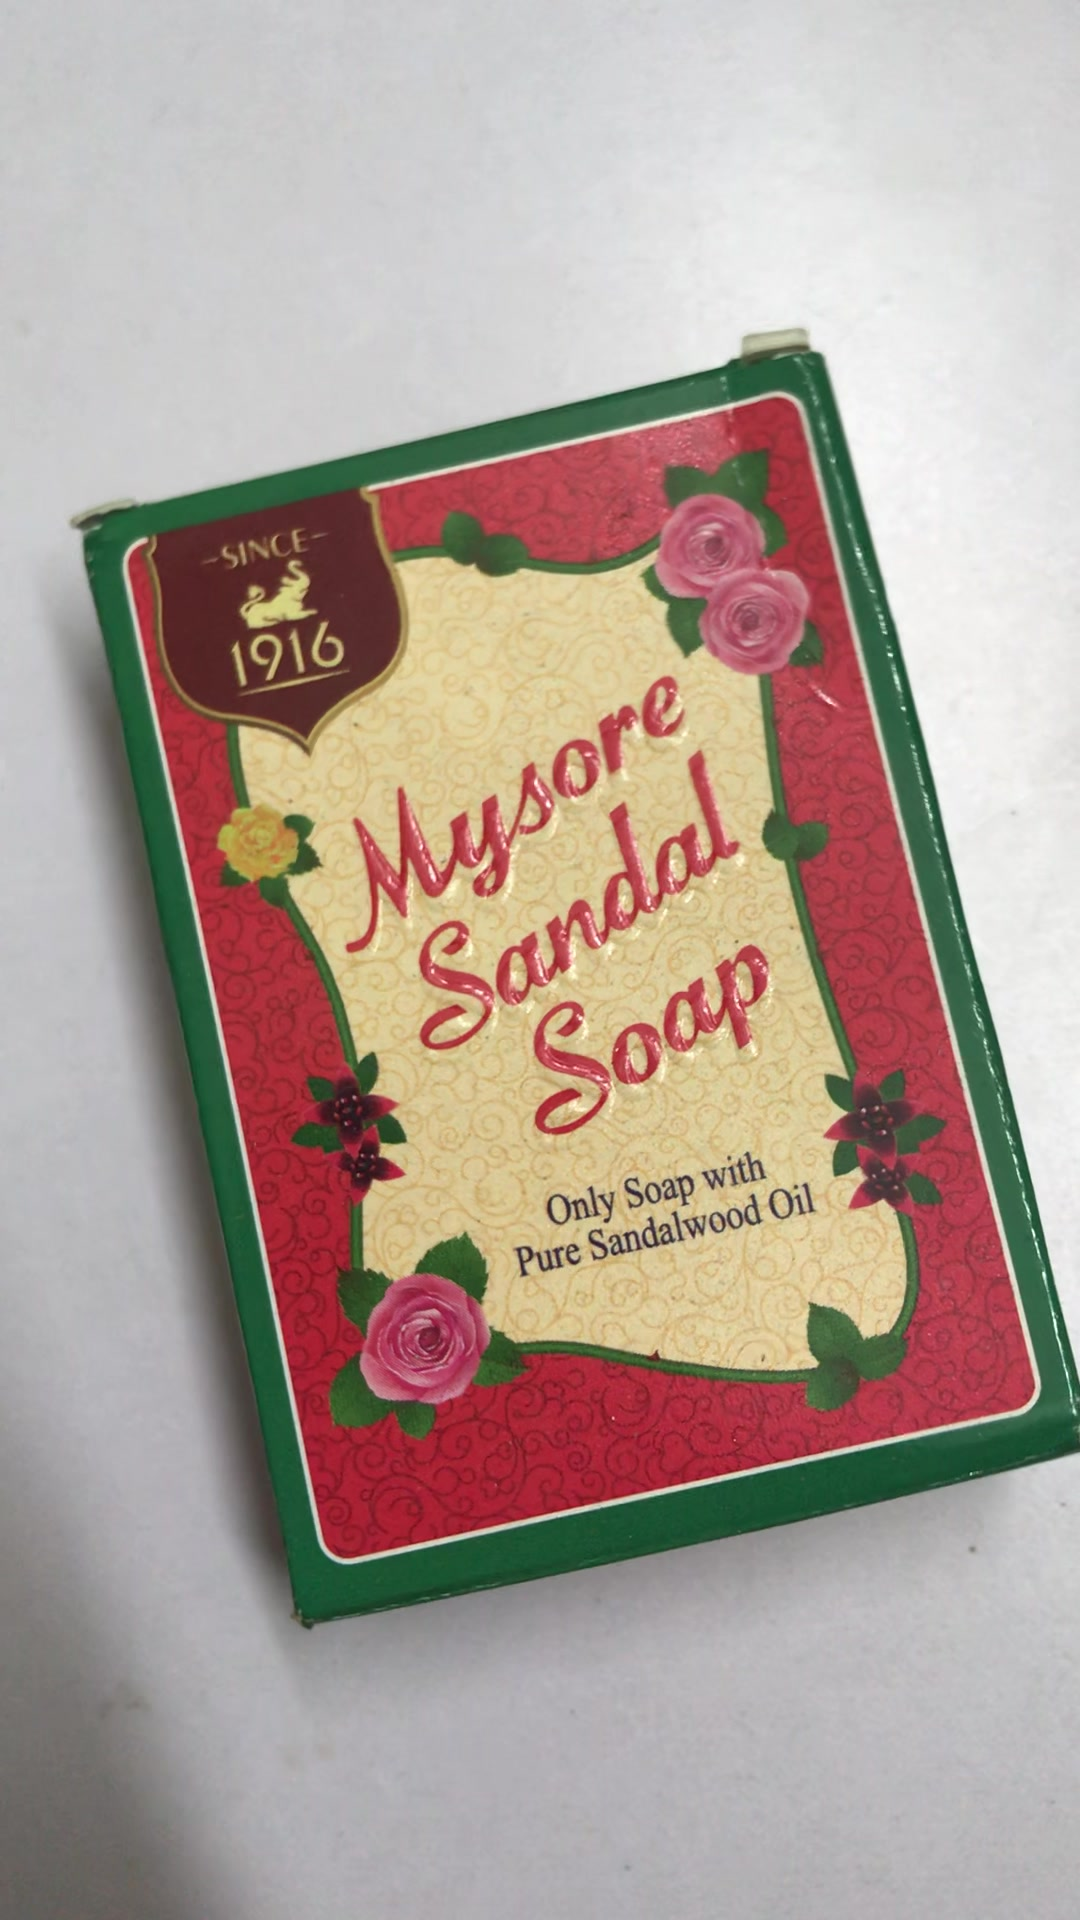mysore sandal soap: (94, 353, 1080, 1629)
